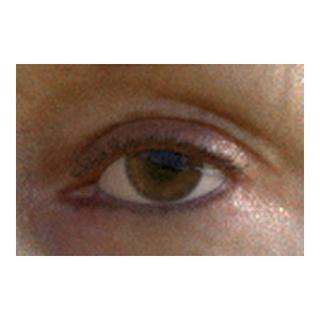pupil: (147, 146, 181, 180)
